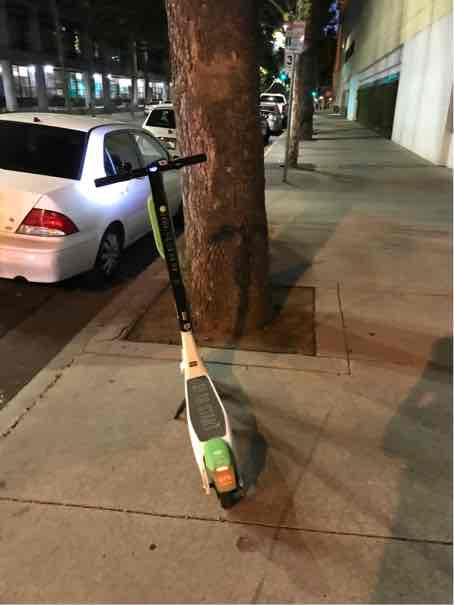scooter: (98, 150, 272, 512)
